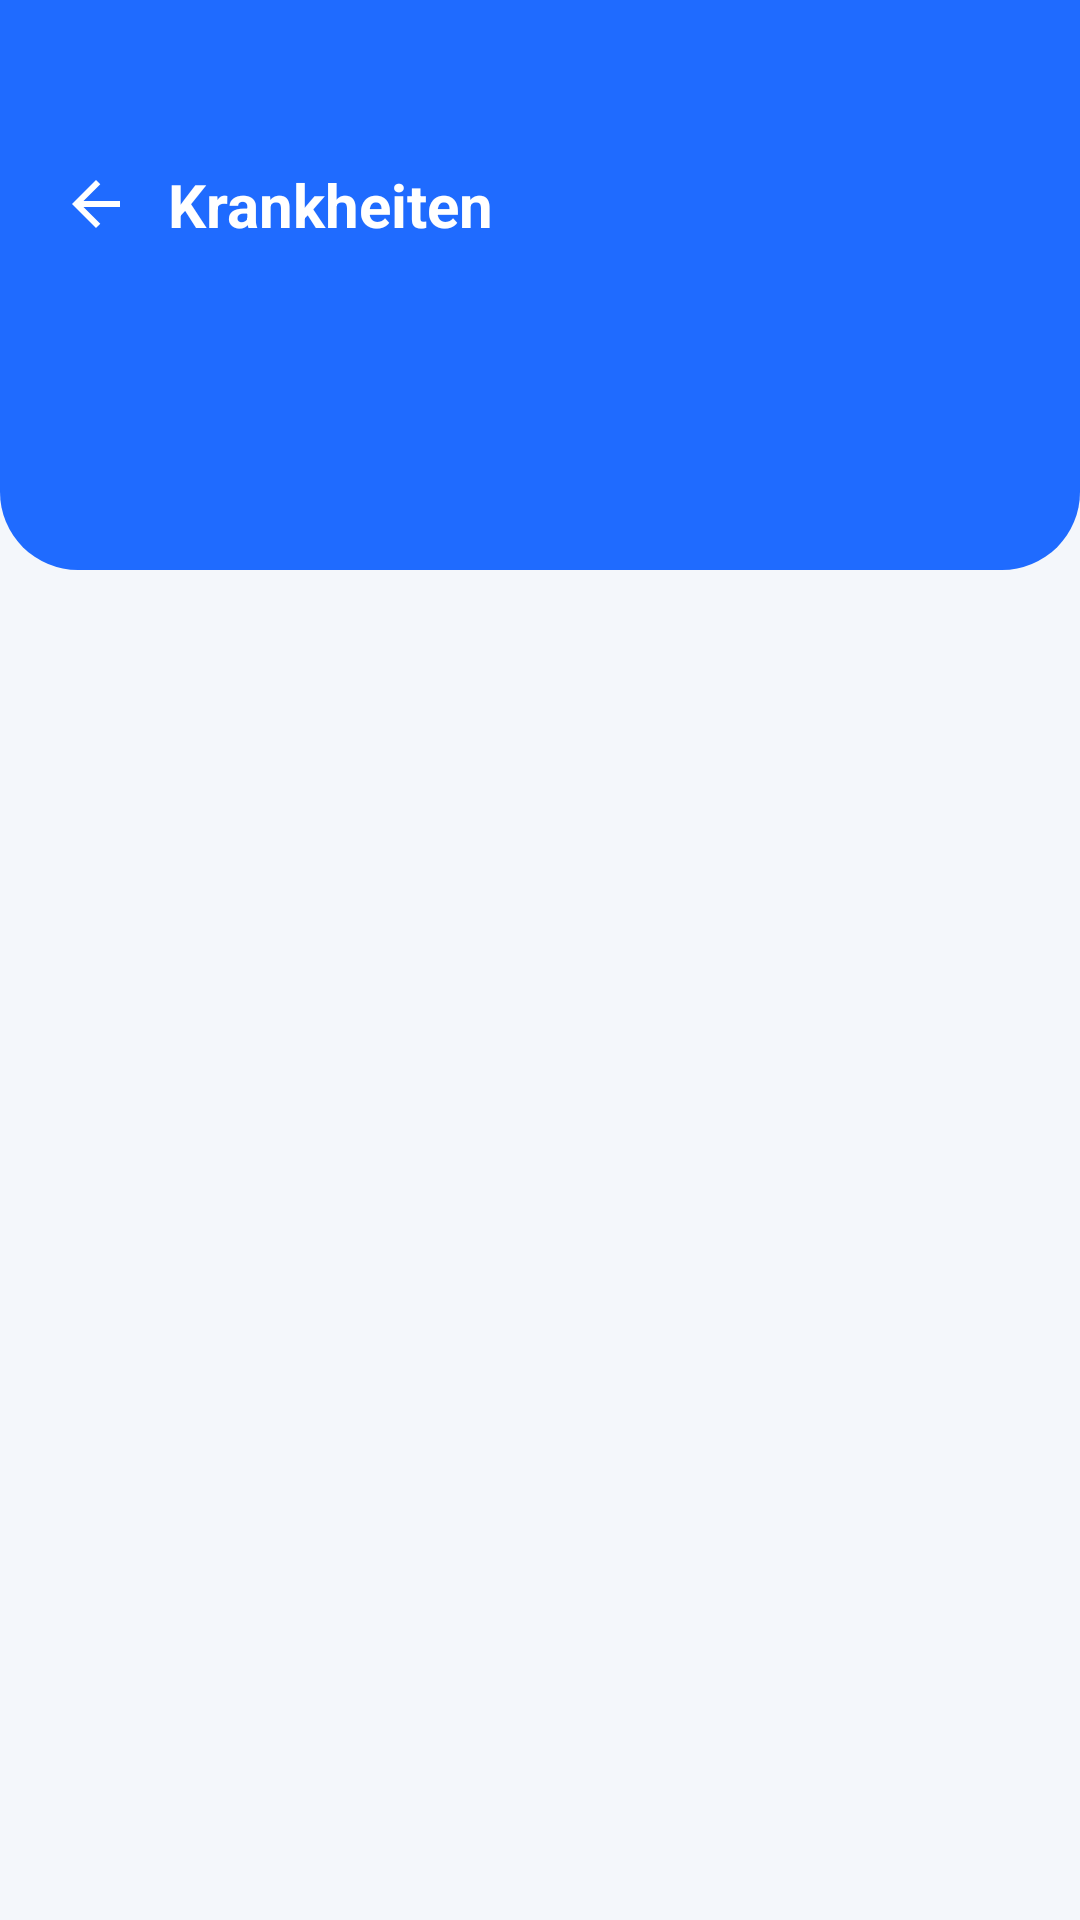

Named icons in this screenshot (1080px x 1920px) and their centers, point (x, y):
back: point (96, 204)
